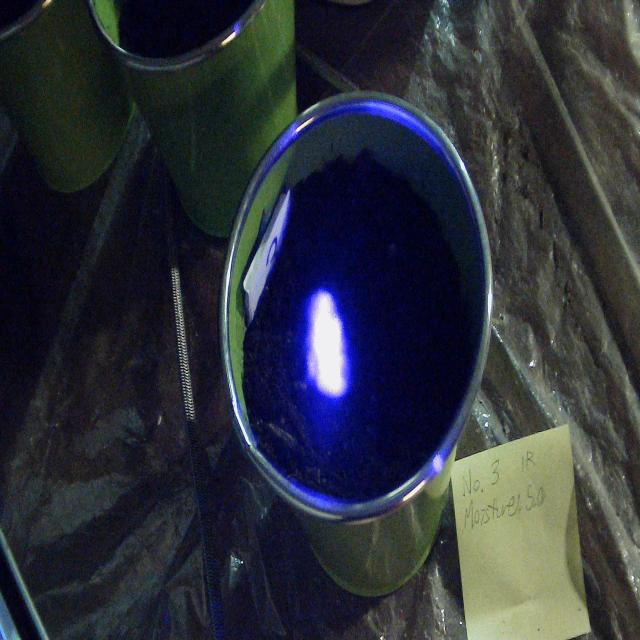soil-moisture-5.0: (302, 289, 352, 402)
